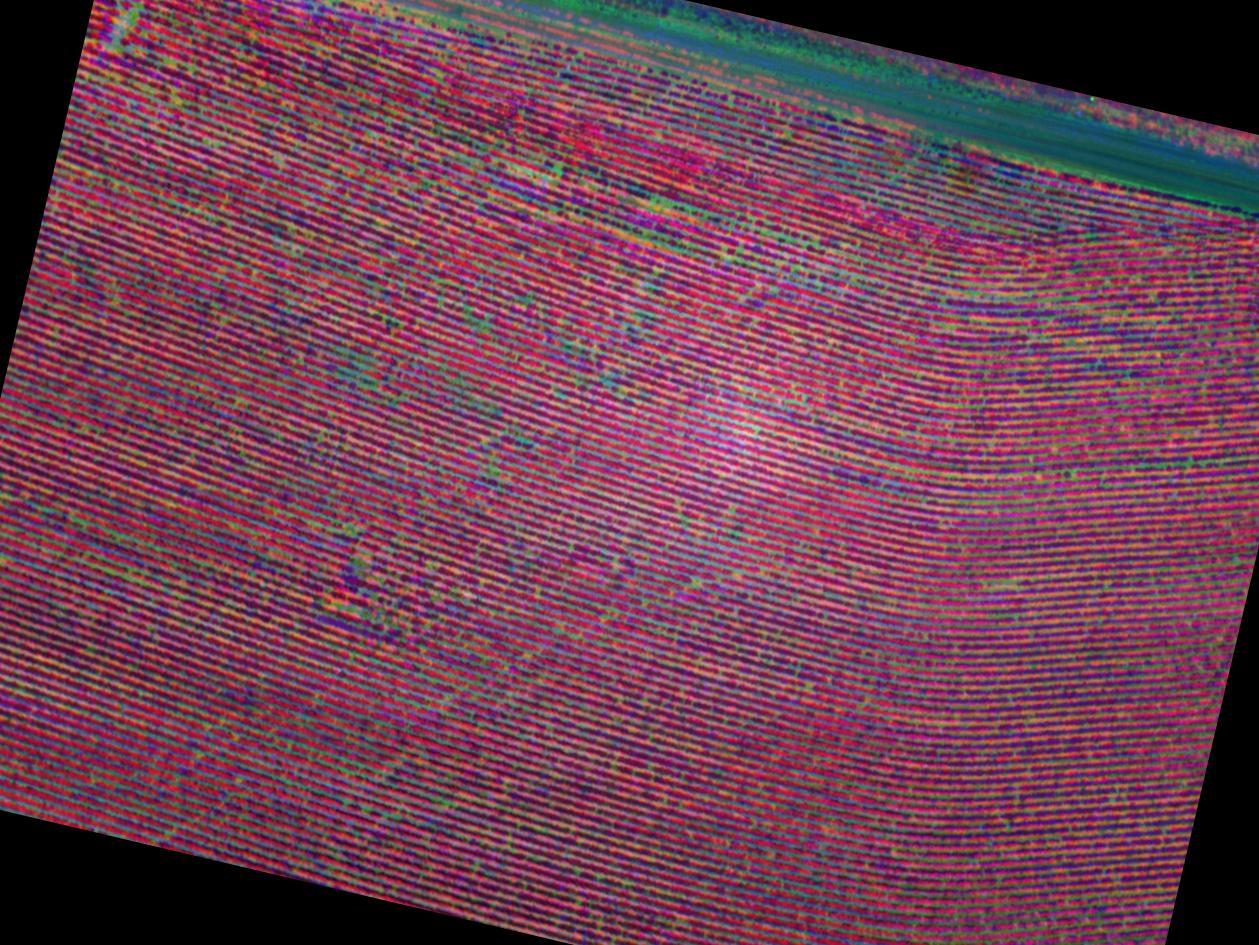dc: (328, 550, 463, 652), (616, 169, 765, 248), (349, 338, 469, 429), (86, 0, 182, 110), (457, 118, 589, 186)
